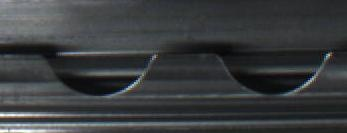twou: (56, 40, 316, 102)
